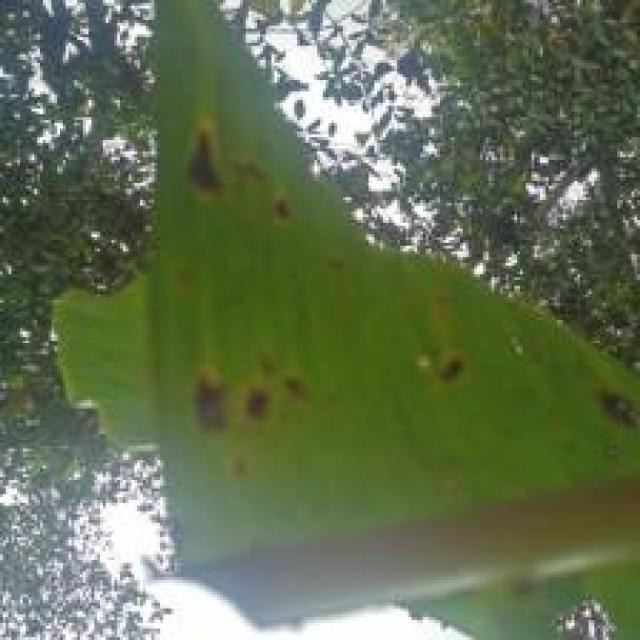Downey_mildrew: (143, 89, 382, 296), (156, 322, 378, 492), (561, 323, 640, 465), (415, 288, 498, 419)
